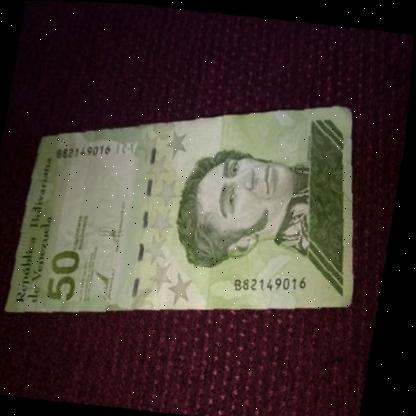fifty-front-vef: (5, 62, 395, 360)
